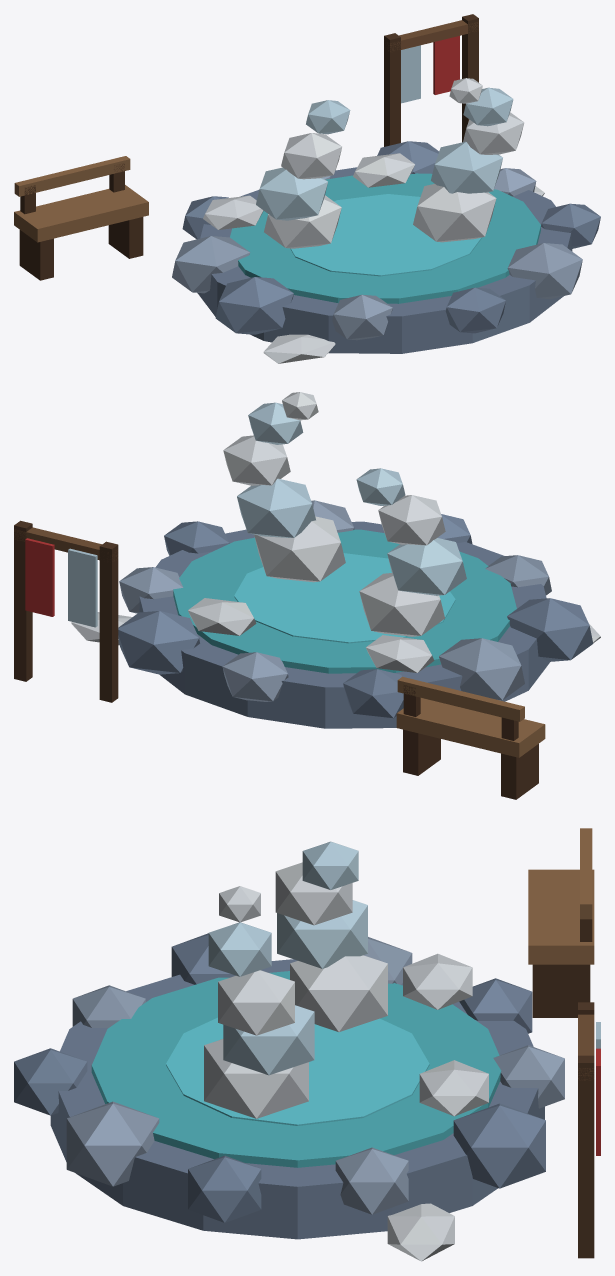
The model's file is Decor_IcePalace_HotSpring.fbx.
The picture shows the model from 3 angles, top to bottom: view 1: azimuth 30°, elevation 25°; view 2: azimuth 150°, elevation 25°; view 3: azimuth 270°, elevation 25°; orthographic projection. The views are drawn at different scales.
Parts seen in each view (by area): view 1: HotSpring_Body; view 2: HotSpring_Body; view 3: HotSpring_Body.
Part boxes in pixels (left/top/right/bottom): HotSpring_Body: left=14, top=14, right=600, bottom=363; HotSpring_Body: left=14, top=392, right=600, bottom=799; HotSpring_Body: left=14, top=828, right=600, bottom=1261.
Size of the model in its own units: 17.1 by 7.1 by 13.25.
